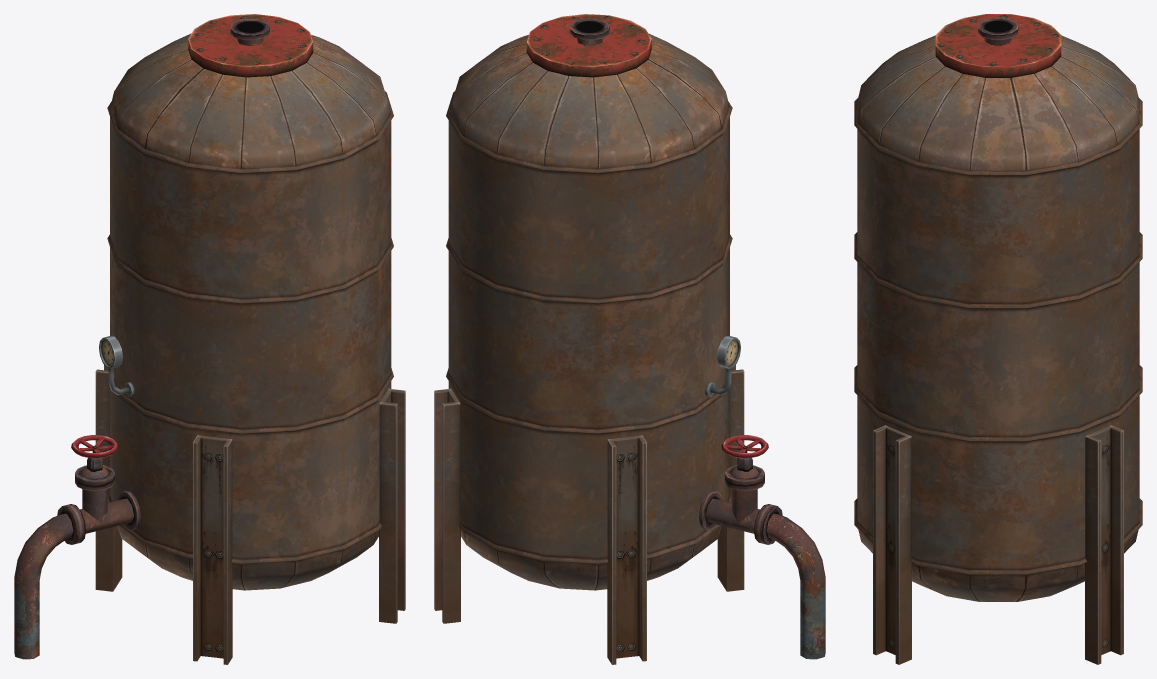
Rendered from industrialBoiler02.FBX.
3 views of the same model, side by side, from view 1: azimuth 30°, elevation 25°; view 2: azimuth 150°, elevation 25°; view 3: azimuth 270°, elevation 25° (orthographic). The views are drawn at different scales.
Parts seen in each view (by area): view 1: industrialBoiler02, industrialBoiler02_valve; view 2: industrialBoiler02, industrialBoiler02_valve; view 3: industrialBoiler02.
Part boxes in pixels (bbox=[...]): industrialBoiler02: bbox=[14, 14, 405, 664]; industrialBoiler02_valve: bbox=[71, 435, 118, 458]; industrialBoiler02: bbox=[434, 14, 825, 664]; industrialBoiler02_valve: bbox=[721, 435, 768, 458]; industrialBoiler02: bbox=[854, 14, 1142, 664].
Size of the model in its own units: 229 by 350 by 156.
